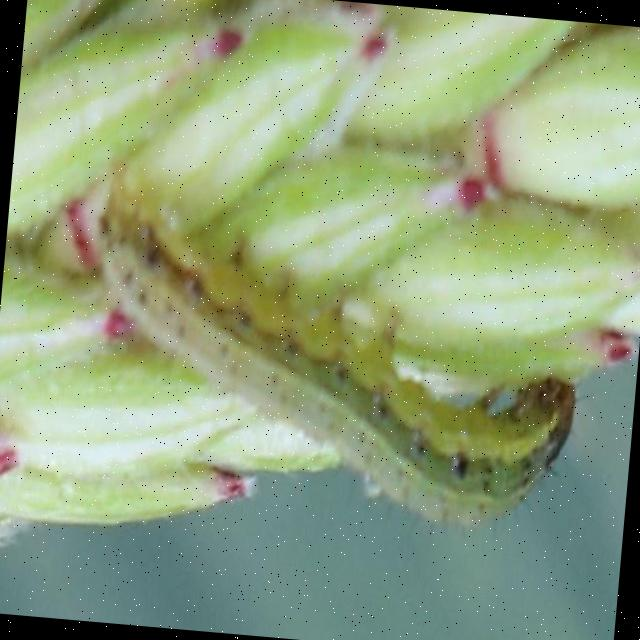worm: (66, 180, 602, 550)
